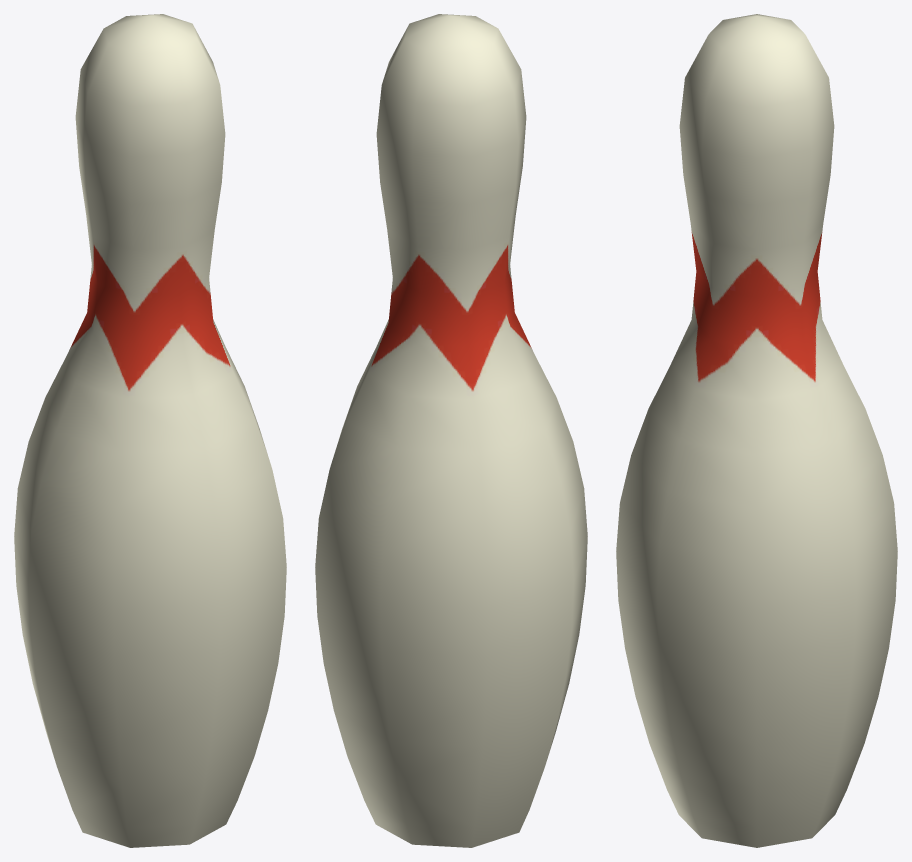
The model's file is pin.glb.
The picture shows the model from 3 angles, left to right: view 1: azimuth 30°, elevation 25°; view 2: azimuth 150°, elevation 25°; view 3: azimuth 270°, elevation 25°; orthographic projection.
Parts seen in each view (by area): view 1: Mesh_0402.rip; view 2: Mesh_0402.rip; view 3: Mesh_0402.rip.
Boxes of the visible parts, x1,y1,x2,y2 form: Mesh_0402.rip: [14, 14, 286, 847]; Mesh_0402.rip: [315, 14, 587, 847]; Mesh_0402.rip: [616, 14, 897, 847].
Size of the model in its own units: 1.02 by 3.2 by 1.02.
1 material, 1 textured.
